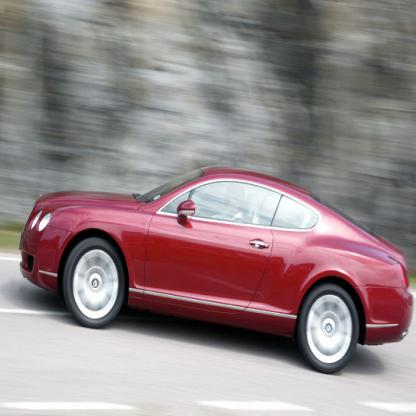Vehicle: (20, 166, 414, 376)
